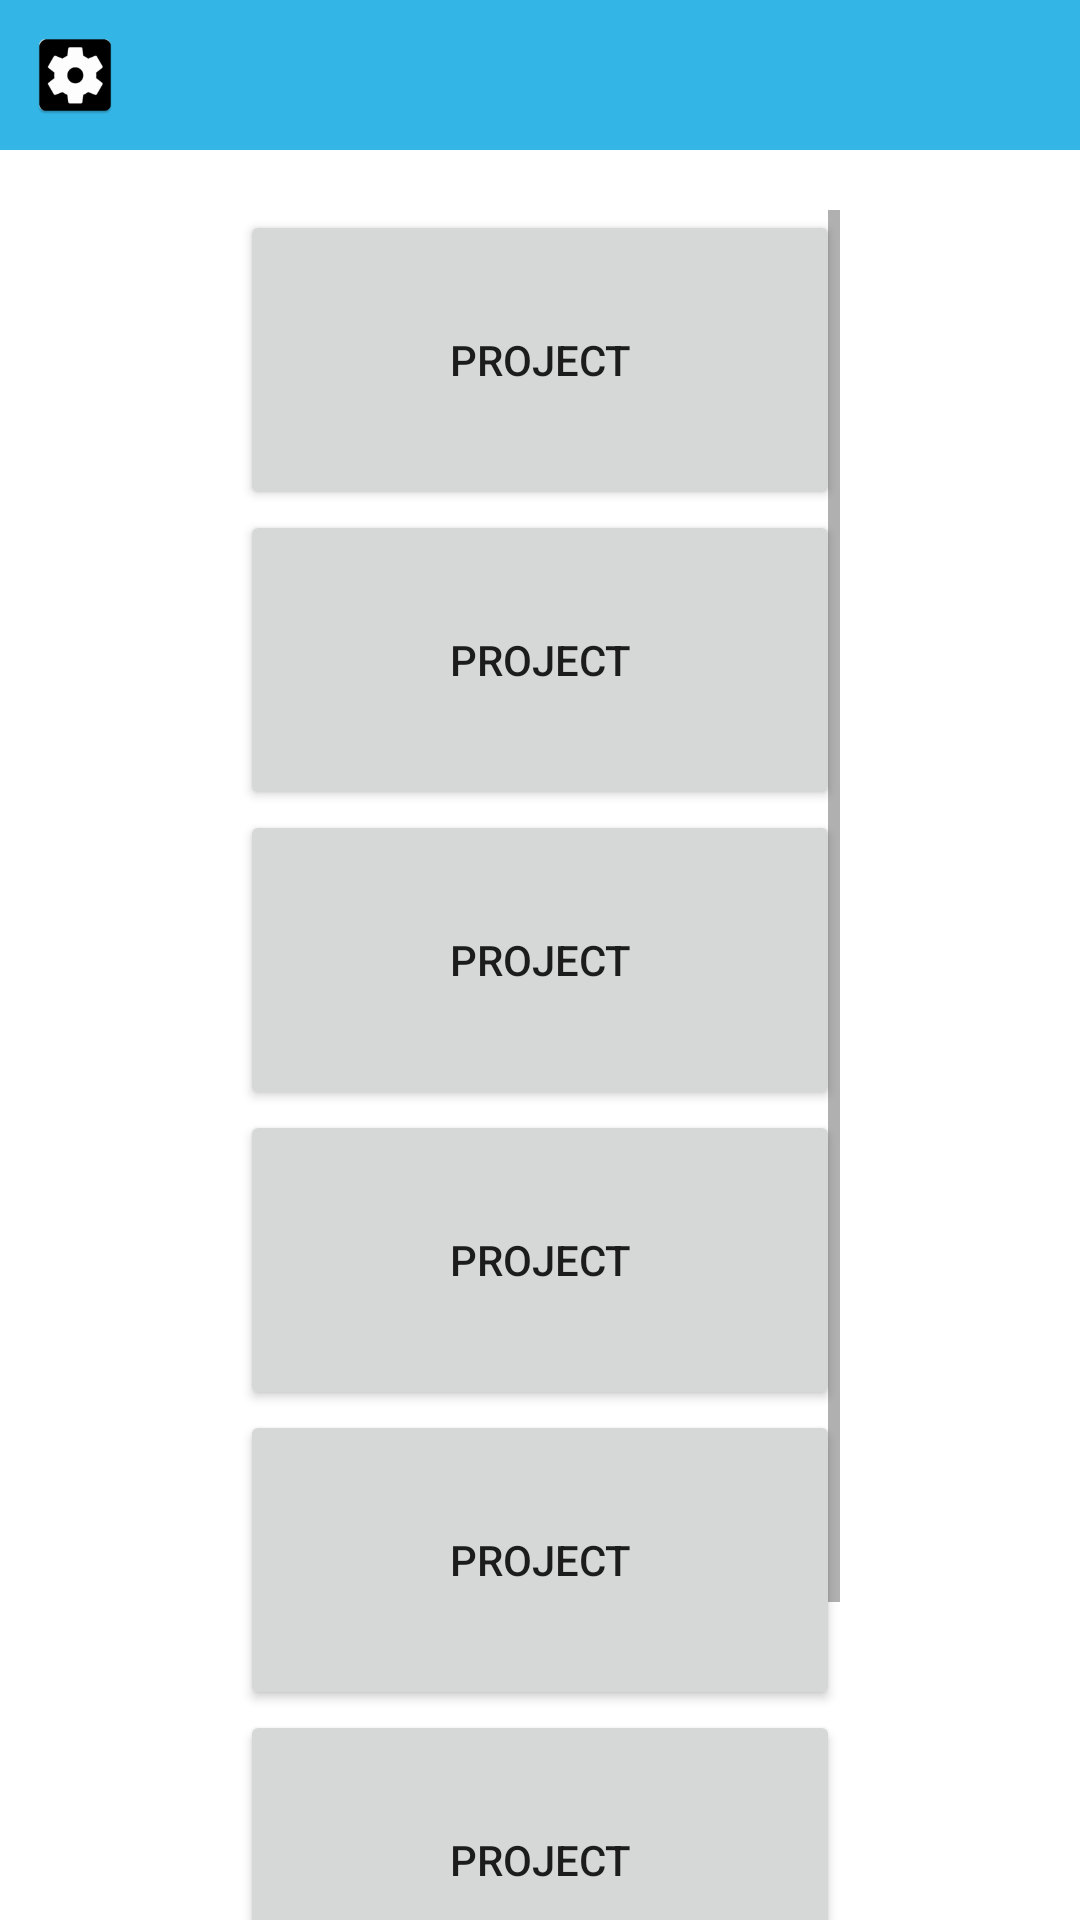

Screen size 1080x1920. Icon name, then its center in pixels as [x,y]:
settings: [75,76]
